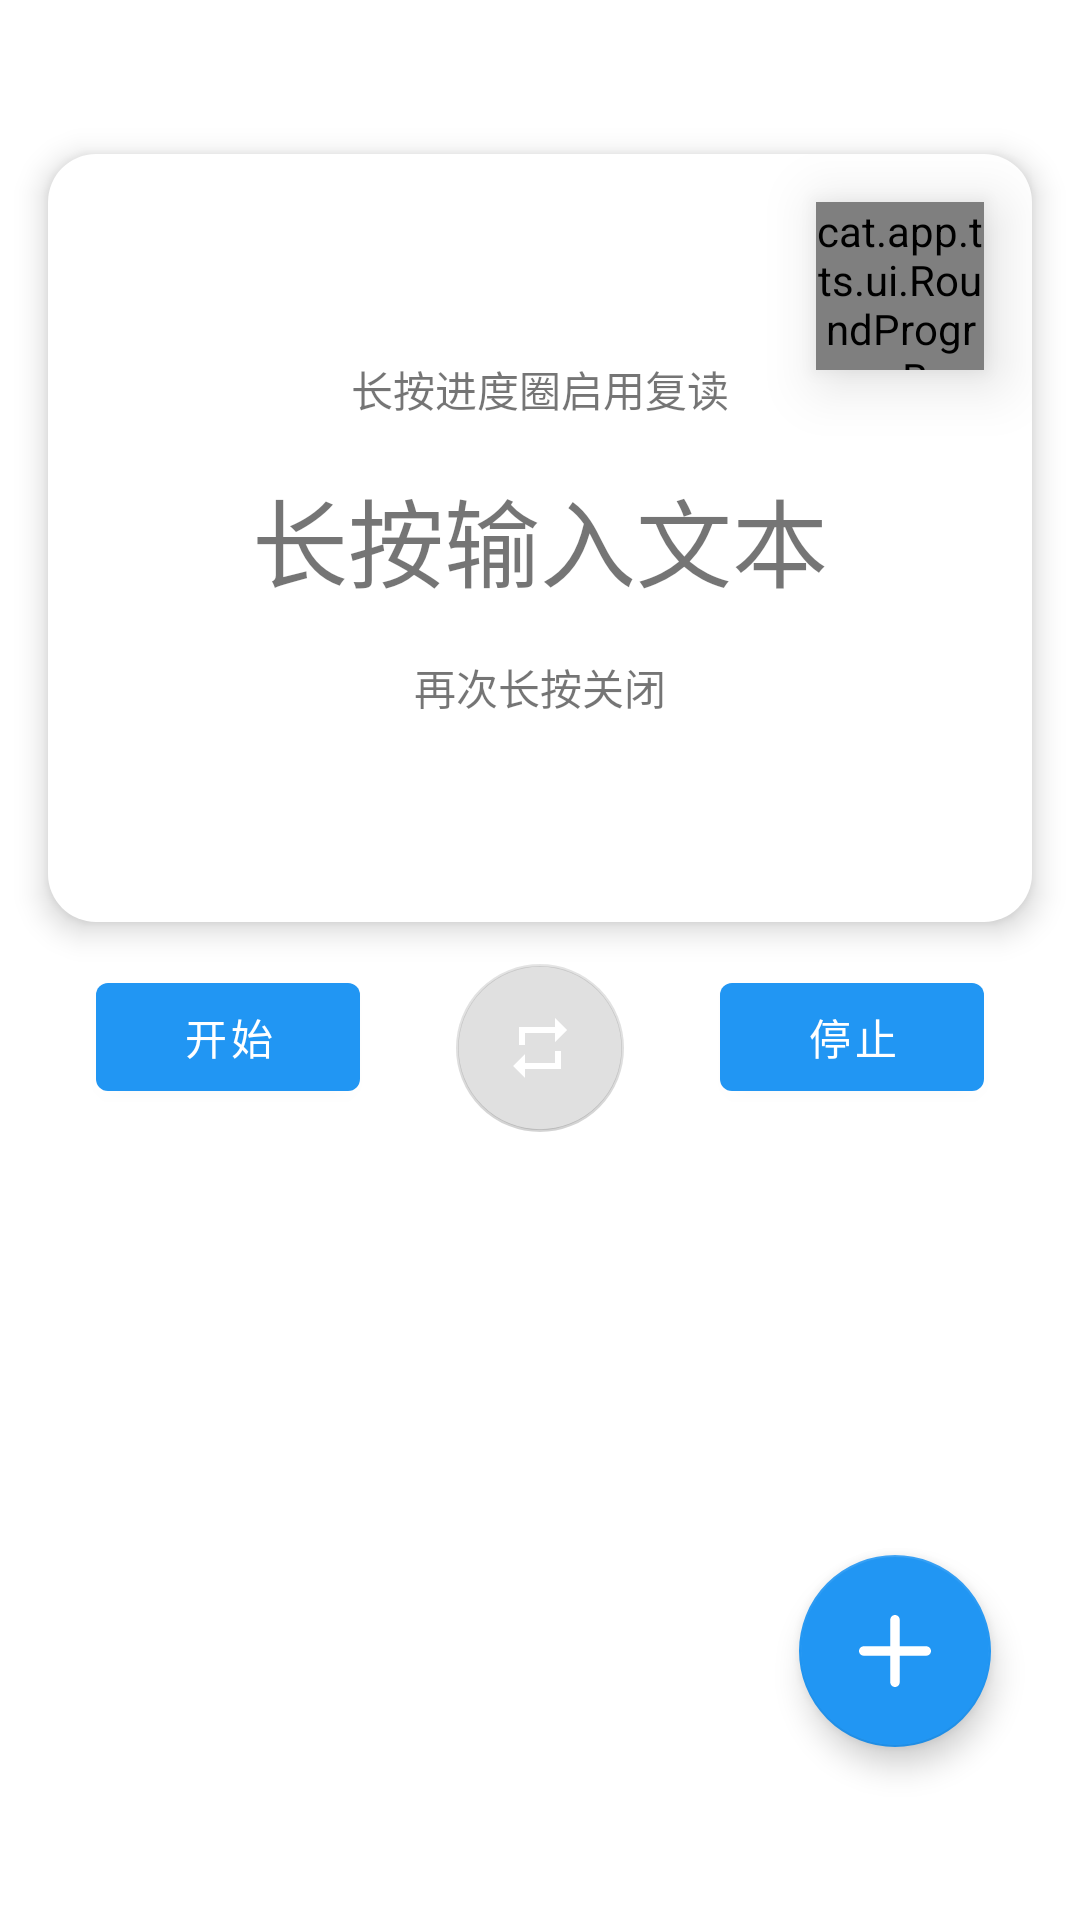

Screen size 1080 x 1920. Icon name, then its center in pixels as [x,y]:
Repeat: [540,1048]
